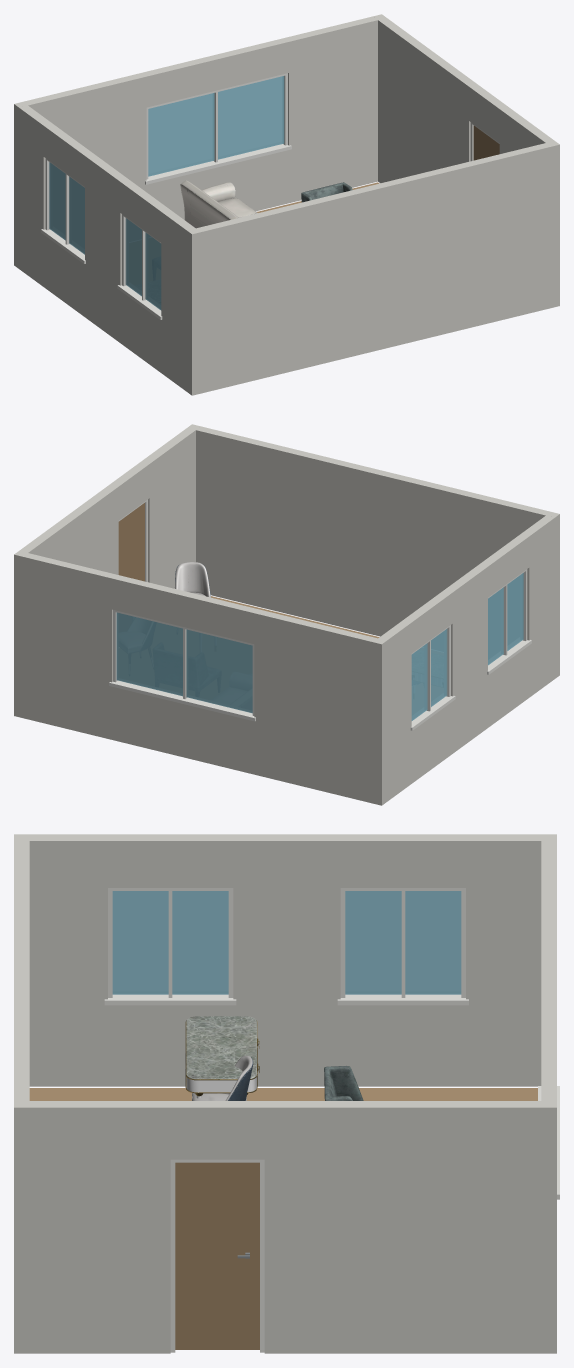
Rendered from layoutvlm.glb.
The picture shows the model from 3 angles, top to bottom: view 1: azimuth 30°, elevation 25°; view 2: azimuth 150°, elevation 25°; view 3: azimuth 270°, elevation 25°; orthographic projection. The views are drawn at different scales.
Parts seen in each view (by area): view 1: wall|scenesmith_067__R00|0, wall|scenesmith_067__R00|1, wall|scenesmith_067__R00|2, wall|scenesmith_067__R00|3, wall|scenesmith_067__R00|1 Window 0 | glazing, wall|scenesmith_067__R00|2 Window 0 | glazing, raw_model, wall|scenesmith_067__R00|2 Window 0 | jamb, wall|scenesmith_067__R00|1 Window 0 | jamb, wall|scenesmith_067__R00|3 Door 0 | wood leaf, raw_model.002; view 2: wall|scenesmith_067__R00|1, wall|scenesmith_067__R00|0, wall|scenesmith_067__R00|2, wall|scenesmith_067__R00|3, wall|scenesmith_067__R00|1 Window 0 | glazing, wall|scenesmith_067__R00|2 Window 0 | glazing, wall|scenesmith_067__R00|2 Window 0 | jamb, wall|scenesmith_067__R00|1 Window 0 | jamb, wall|scenesmith_067__R00|3 Door 0 | wood leaf, raw_model.006; view 3: wall|scenesmith_067__R00|3, wall|scenesmith_067__R00|2, wall|scenesmith_067__R00|2 Window 0 | glazing, wall|scenesmith_067__R00|3 Door 0 | wood leaf, wall|scenesmith_067__R00|2 Window 0 | jamb, floor, raw_model.004, wall|scenesmith_067__R00|0, wall|scenesmith_067__R00|1, wall|scenesmith_067__R00|3 Door 0 | jamb, raw_model.002, raw_model.006.
Part boxes in pixels (x1,y1,x2,y2): wall|scenesmith_067__R00|0: [187, 143, 559, 395]; wall|scenesmith_067__R00|1: [14, 16, 377, 219]; wall|scenesmith_067__R00|2: [14, 104, 200, 395]; wall|scenesmith_067__R00|3: [373, 14, 559, 183]; wall|scenesmith_067__R00|1 Window 0 | glazing: [148, 76, 284, 176]; wall|scenesmith_067__R00|2 Window 0 | glazing: [49, 162, 161, 310]; raw_model: [180, 180, 257, 228]; wall|scenesmith_067__R00|2 Window 0 | jamb: [41, 158, 162, 319]; wall|scenesmith_067__R00|1 Window 0 | jamb: [145, 73, 291, 184]; wall|scenesmith_067__R00|3 Door 0 | wood leaf: [473, 125, 499, 160]; raw_model.002: [301, 182, 352, 202]; wall|scenesmith_067__R00|1: [23, 553, 386, 803]; wall|scenesmith_067__R00|0: [196, 426, 559, 636]; wall|scenesmith_067__R00|2: [373, 514, 559, 805]; wall|scenesmith_067__R00|3: [14, 424, 200, 717]; wall|scenesmith_067__R00|1 Window 0 | glazing: [116, 612, 252, 713]; wall|scenesmith_067__R00|2 Window 0 | glazing: [411, 573, 523, 720]; wall|scenesmith_067__R00|2 Window 0 | jamb: [410, 569, 531, 730]; wall|scenesmith_067__R00|1 Window 0 | jamb: [109, 610, 255, 721]; wall|scenesmith_067__R00|3 Door 0 | wood leaf: [118, 503, 144, 581]; raw_model.006: [175, 562, 210, 597]; wall|scenesmith_067__R00|3: [14, 1101, 556, 1353]; wall|scenesmith_067__R00|2: [29, 834, 541, 1086]; wall|scenesmith_067__R00|2 Window 0 | glazing: [112, 891, 461, 994]; wall|scenesmith_067__R00|3 Door 0 | wood leaf: [175, 1162, 259, 1349]; wall|scenesmith_067__R00|2 Window 0 | jamb: [104, 888, 468, 1005]; floor: [29, 1088, 537, 1100]; raw_model.004: [185, 1016, 259, 1100]; wall|scenesmith_067__R00|0: [14, 834, 29, 1100]; wall|scenesmith_067__R00|1: [541, 834, 556, 1100]; wall|scenesmith_067__R00|3 Door 0 | jamb: [170, 1159, 264, 1352]; raw_model.002: [324, 1066, 363, 1100]; raw_model.006: [192, 1055, 253, 1100].
Bounding box in the file's own units: 6.23 × 2.61 × 5.23.
11 materials, 5 textured.
